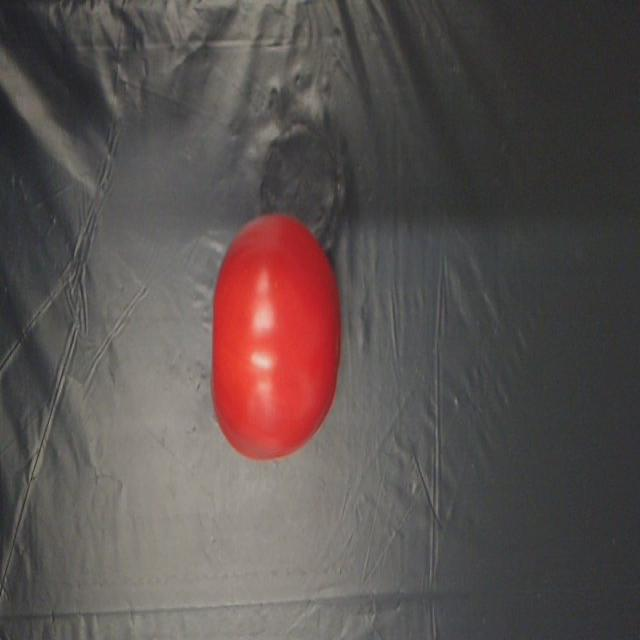kirmizi: (198, 196, 358, 457)
